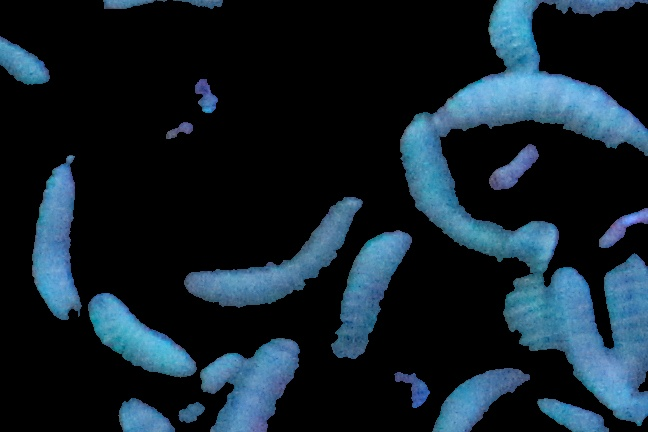larvae: (401, 112, 561, 269), (183, 194, 363, 314), (436, 75, 648, 149), (550, 268, 640, 419), (332, 232, 411, 359), (89, 290, 196, 377), (212, 335, 306, 432), (502, 219, 560, 354), (33, 159, 81, 321), (434, 368, 528, 432), (605, 254, 648, 378), (180, 354, 240, 424), (487, 1, 543, 73), (1, 19, 51, 87), (535, 393, 607, 432), (114, 398, 173, 432)
